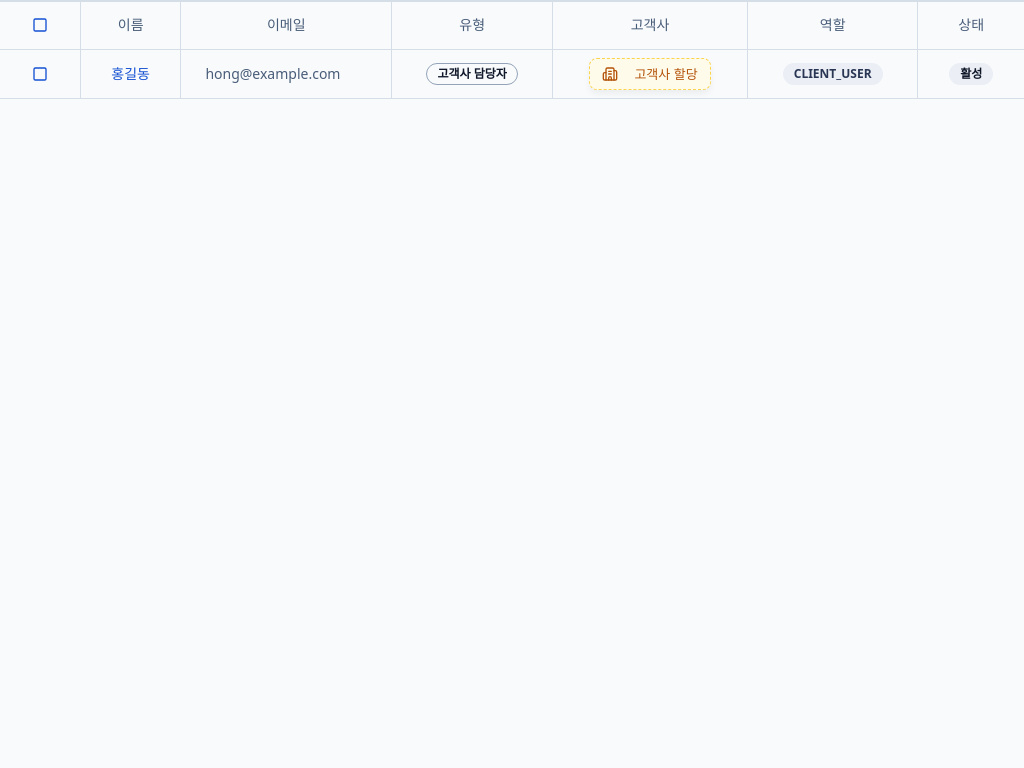
it: UserTable — 고객사 할당 드롭다운 › 검색어로 목록을 좁히고, 하나도 안 맞으면 안내를 보여준다
Click the button "고객사 할당".
click(650, 74)  # box [589,58,711,90]
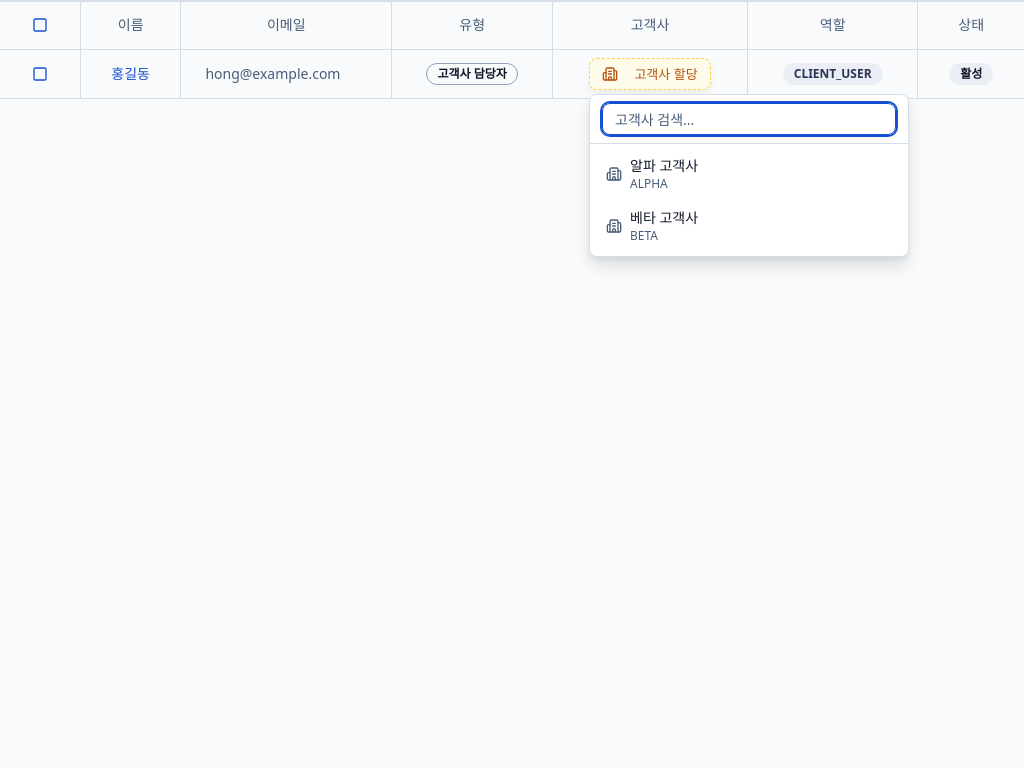
Check: the text "알파 고객사" is shown, box [630,156,698,175]
Check: the text "베타 고객사" is shown, box [630,208,698,227]
Type "beta" into the field with placeholder "고객사 검색...".
click(749, 119); type("beta")  # box [602,103,896,135]
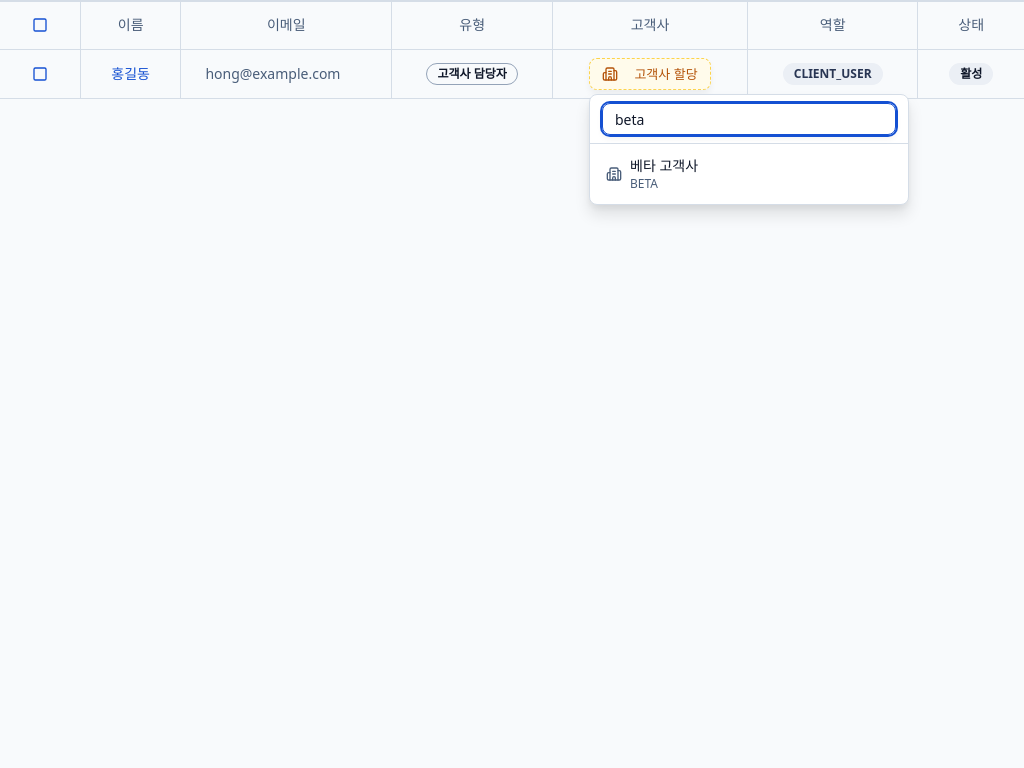
Check: the text "베타 고객사" is shown, box [630,156,698,175]
Check: the button "알파 고객사" is gone
Replace the text in the field with placeholder "고객사 검색..." with "없는고객사" at point(749, 119), box [602,103,896,135]
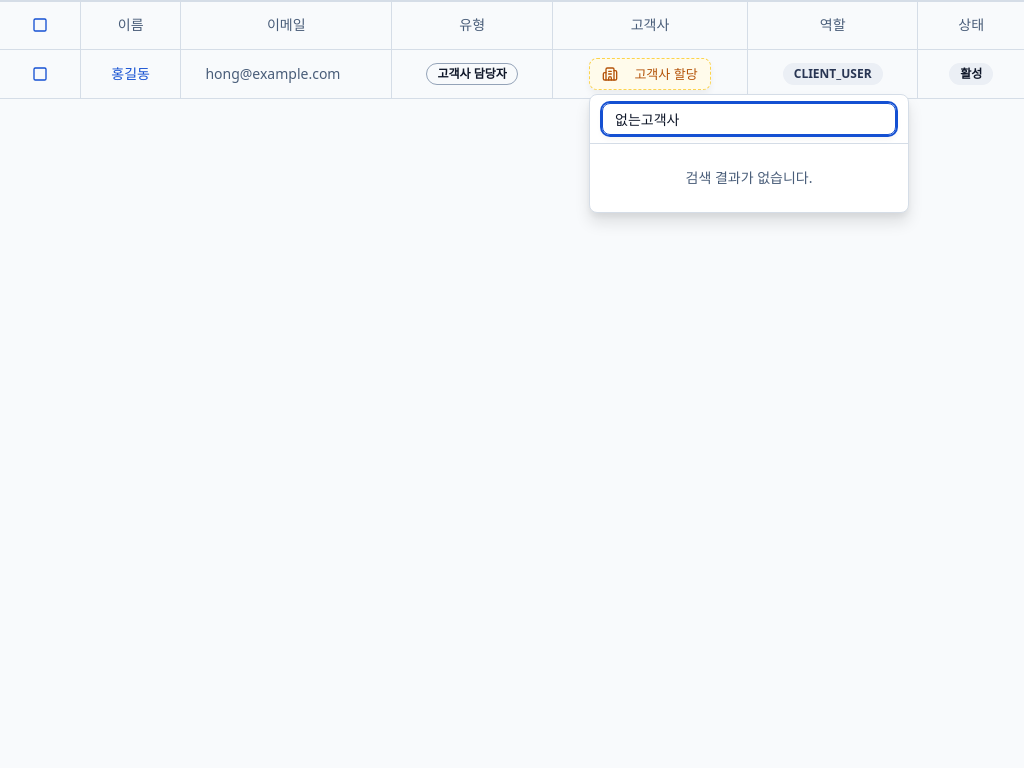
Check: the text "검색 결과가 없습니다." is shown, box [686,168,812,187]
